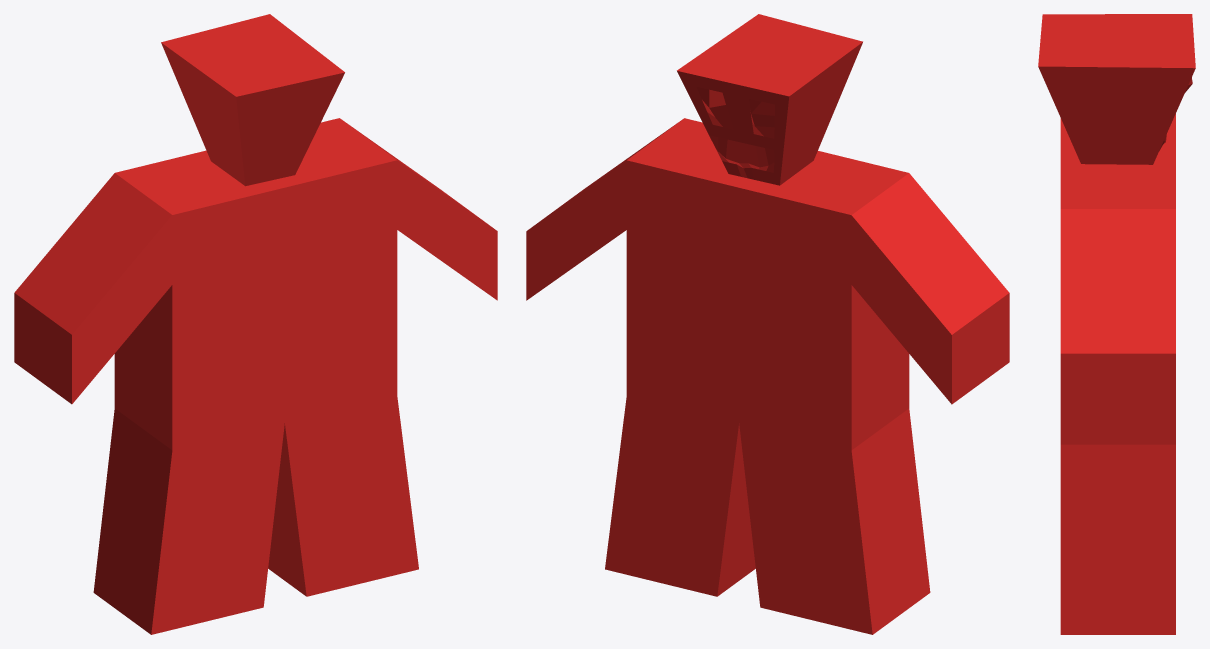
File: models.glb
The picture shows the model from 3 angles, left to right: view 1: azimuth 30°, elevation 25°; view 2: azimuth 150°, elevation 25°; view 3: azimuth 270°, elevation 25°; orthographic projection.
Parts seen in each view (by area): view 1: Cube.001; view 2: Cube.001; view 3: Cube.001.
Boxes of the visible parts, bbox=[...] form: Cube.001: bbox=[14, 14, 497, 634]; Cube.001: bbox=[526, 14, 1009, 634]; Cube.001: bbox=[1038, 14, 1195, 634].
Size of the model in its own units: 0.6008 by 0.7098 by 0.1924.
